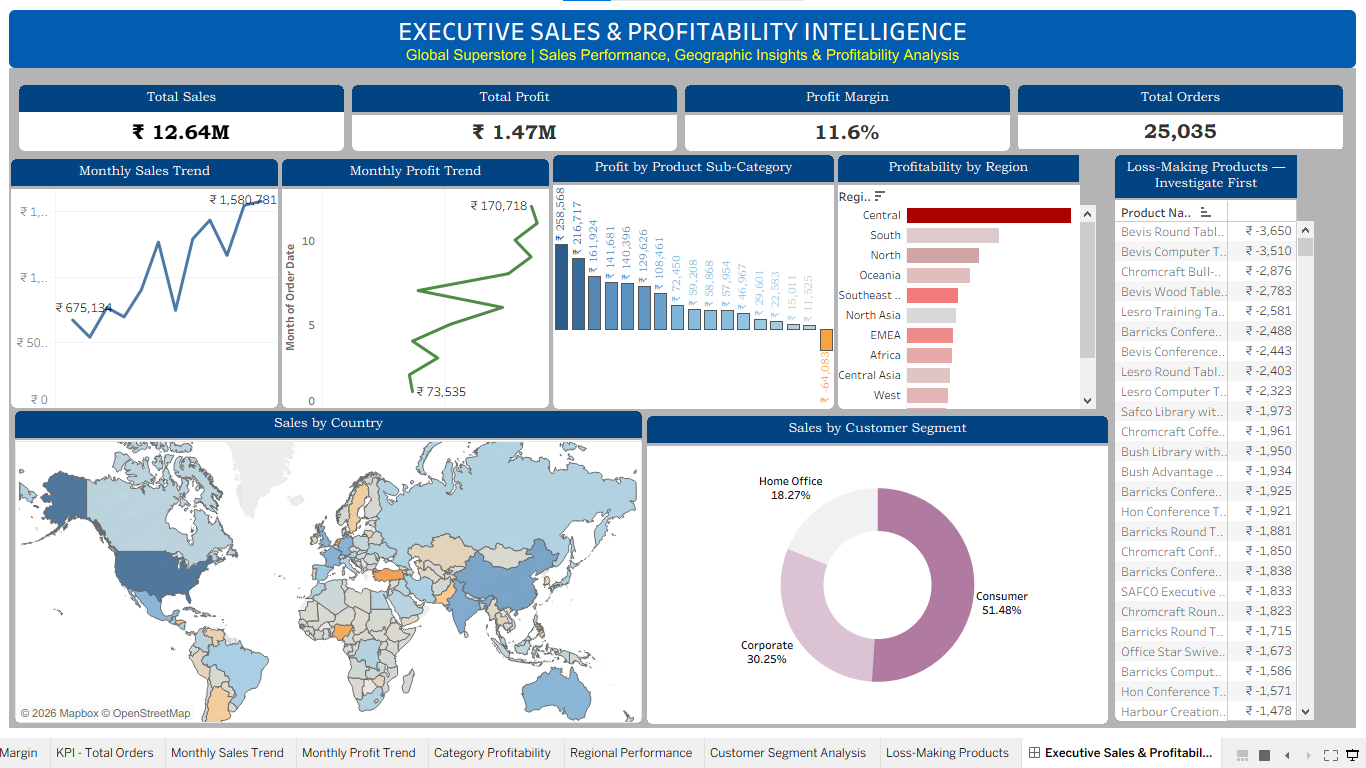

This screenshot's page, from the dashboard's own definition file:
{"tool":"tableau","page":{"name":"Executive Sales & Profitability Dashboard","canvas":[1000,1000],"units":"permille","ordinal":0},"visuals":[{"type":"title","box":[6.9,13.5,986.2,98]},{"type":"worksheet","title":"KPI - Total Sales","mark":"Automatic","box":[11.2,109.8,244.2,99.7]},{"type":"worksheet","title":"KPI - Total Profit","mark":"Automatic","box":[255.4,109.8,244.2,99.7]},{"type":"worksheet","title":"KPI - Profit Margin","mark":"Automatic","box":[499.6,109.8,243.3,99.7]},{"type":"worksheet","title":"KPI - Total Orders","mark":"Automatic","box":[742.9,109.8,243.3,99.7]},{"type":"worksheet","title":"Category Profitability","mark":"Bar","rows":["Profit"],"cols":["Sub-Category"],"box":[403.3,207.8,208.1,349.7]},{"type":"worksheet","title":"Regional Performance","mark":"Bar","rows":["Region"],"cols":["Sales"],"box":[611.4,207.8,208.1,349.7]},{"type":"worksheet","title":"Loss-Making Products","mark":"Automatic","rows":["Category","Product Name"],"box":[816.4,211.2,174.2,765.2]},{"type":"worksheet","title":"Monthly Sales Trend","mark":"Line","rows":["Sales"],"cols":["Order Date"],"box":[6.9,212.8,198.6,342.9]},{"type":"worksheet","title":"Monthly Profit Trend","mark":"Line","rows":["Order Date"],"cols":["Profit"],"box":[205.5,212.8,197.8,342.9]},{"type":"worksheet","title":"Sales by Country","mark":"Multipolygon","box":[8.6,552.4,463.5,430.8]},{"type":"worksheet","title":"Customer Segment Analysis","mark":"Pie","rows":["Calculation_0637224050888704","Calculation_0637224050888704"],"box":[472.1,560.8,340.5,422.3]}]}

Visuals, with their boxes on the dashboard's canvas, which has no fixed pixel size, in thousandths of its width and height (x1, y1, x2, y2). These are canvas units, not pixel positions in the 1366x768 screenshot, which may show the page scaled, cropped or inside an application window:
title: (x1=7, y1=14, x2=993, y2=112)
"KPI - Total Sales" worksheet: (x1=11, y1=110, x2=255, y2=210)
"KPI - Total Profit" worksheet: (x1=255, y1=110, x2=500, y2=210)
"KPI - Profit Margin" worksheet: (x1=500, y1=110, x2=743, y2=210)
"KPI - Total Orders" worksheet: (x1=743, y1=110, x2=986, y2=210)
"Category Profitability" worksheet (Bar marks): (x1=403, y1=208, x2=611, y2=558)
"Regional Performance" worksheet (Bar marks): (x1=611, y1=208, x2=820, y2=558)
"Loss-Making Products" worksheet: (x1=816, y1=211, x2=991, y2=976)
"Monthly Sales Trend" worksheet (Line marks): (x1=7, y1=213, x2=206, y2=556)
"Monthly Profit Trend" worksheet (Line marks): (x1=206, y1=213, x2=403, y2=556)
"Sales by Country" worksheet (Multipolygon marks): (x1=9, y1=552, x2=472, y2=983)
"Customer Segment Analysis" worksheet (Pie marks): (x1=472, y1=561, x2=813, y2=983)
